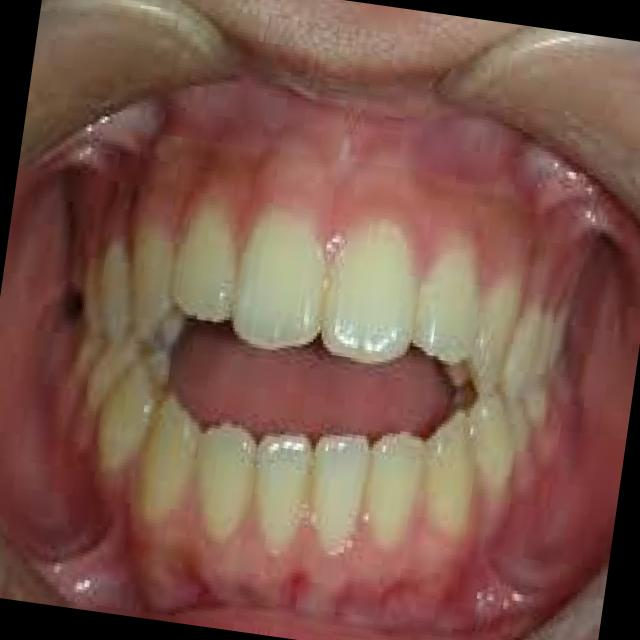Tooth: (320, 219, 421, 365), (234, 203, 327, 348), (413, 231, 483, 365), (134, 392, 201, 527), (172, 196, 240, 322), (424, 409, 479, 546), (196, 422, 257, 542), (310, 436, 370, 555), (256, 433, 314, 554), (367, 432, 426, 550), (99, 364, 159, 476), (131, 220, 180, 346), (473, 274, 520, 397), (470, 382, 517, 496), (501, 304, 545, 404), (97, 236, 136, 345), (88, 340, 138, 419), (68, 334, 111, 400), (500, 392, 533, 452), (84, 261, 104, 340)
